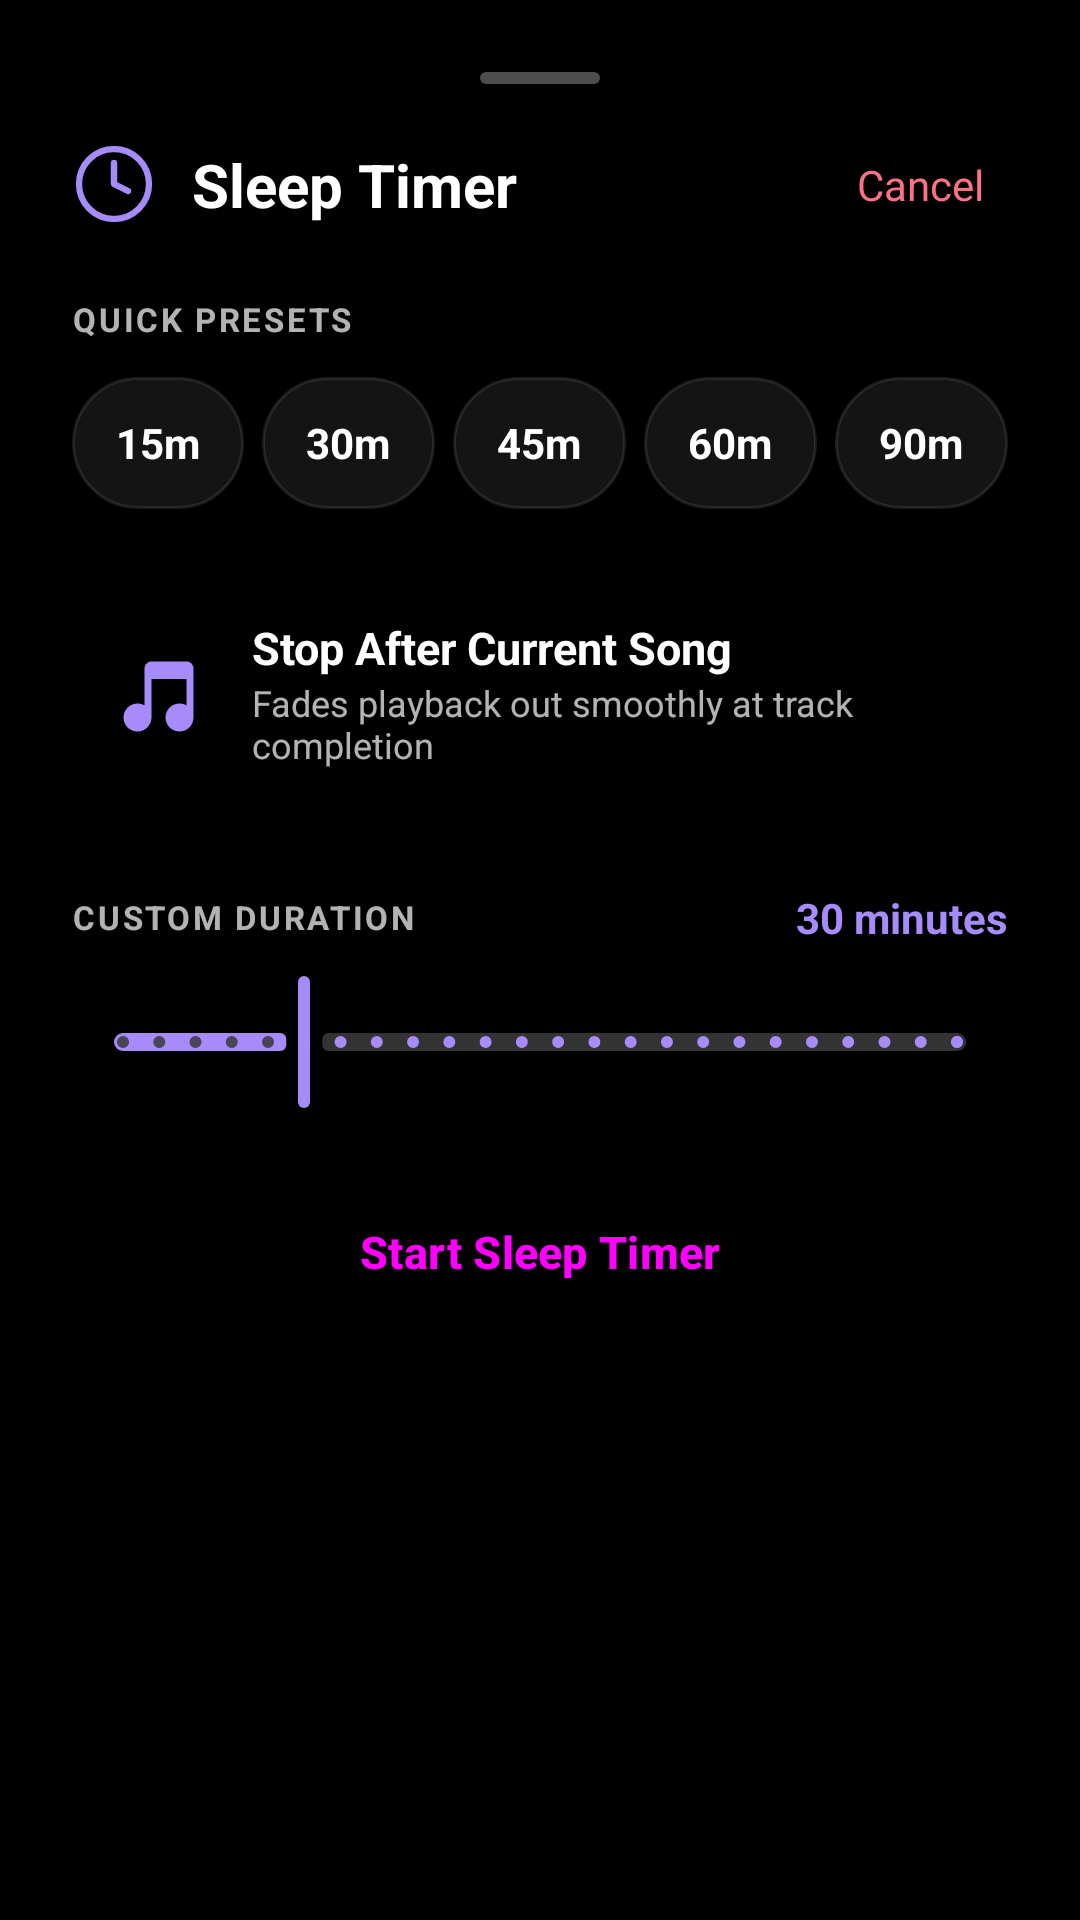

Icon click points for this 1080 x 1920 phone screenshot, format [x,y]:
music note: [158,696]
